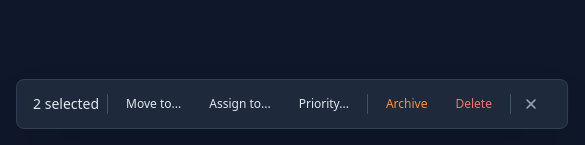
Test: BulkActionToolbar › shows move dropdown on click
Click the button "Move to..." at (154, 104), box [116,90,191,118]
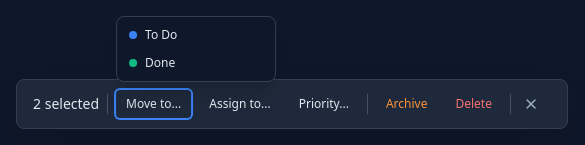
Now the menu item "To Do" is shown, box [117,21,275,49]
Now the menu item "Done" is shown, box [117,49,275,77]
